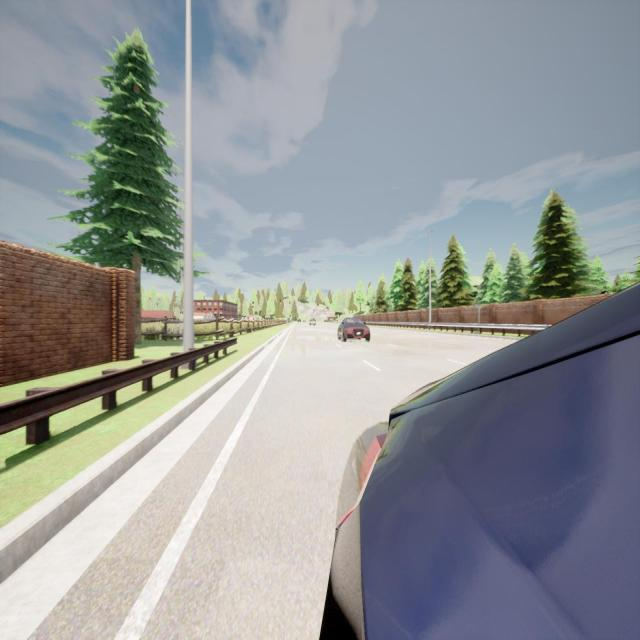Vehicle: (332, 284, 640, 638), (334, 317, 371, 342), (309, 318, 316, 326), (298, 318, 301, 323), (303, 320, 306, 322)
